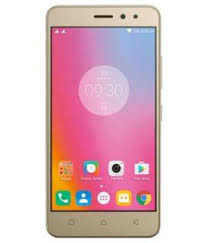lenovo: (44, 1, 162, 239)
